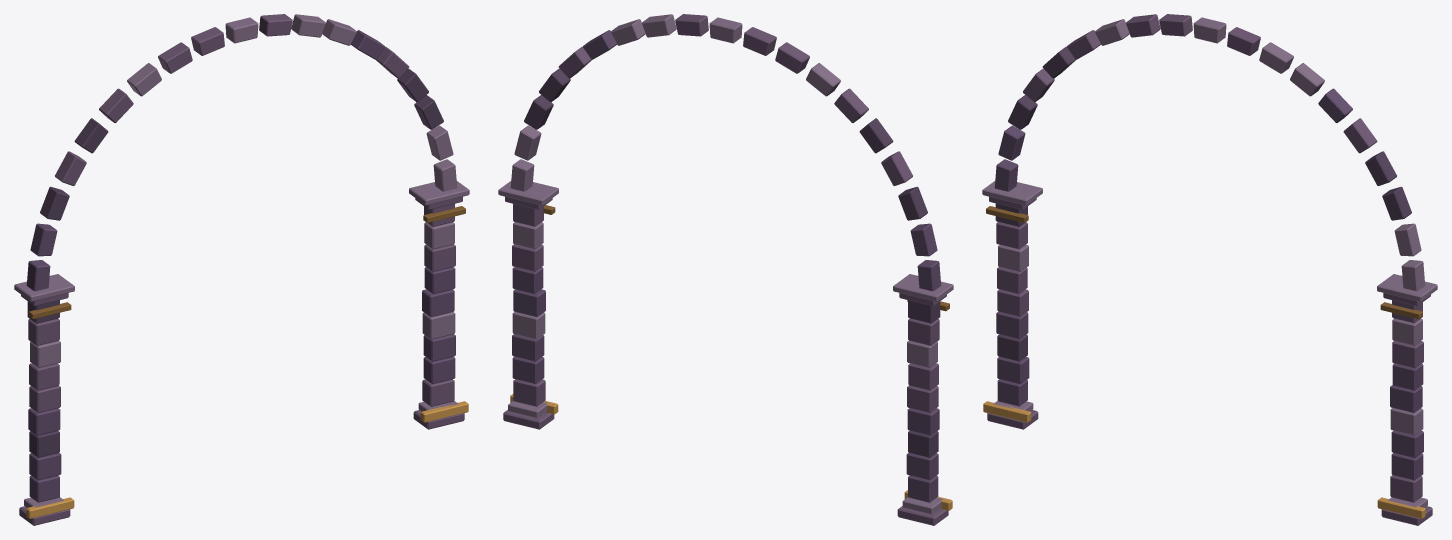
File: SM_Stage3_StoneProscenium.fbx
3 renders of one model, left to right at view 1: azimuth 30°, elevation 25°; view 2: azimuth 150°, elevation 25°; view 3: azimuth 330°, elevation 25°, orthographic.
Parts seen in each view (by area): view 1: SM_Stage3_StoneProscenium; view 2: SM_Stage3_StoneProscenium; view 3: SM_Stage3_StoneProscenium.
Boxes of the visible parts, left/top/right/bottom form: SM_Stage3_StoneProscenium: left=14, top=14, right=469, bottom=525; SM_Stage3_StoneProscenium: left=498, top=14, right=953, bottom=525; SM_Stage3_StoneProscenium: left=982, top=14, right=1437, bottom=525.
Size of the model in its own units: 1025 by 69 by 993.
